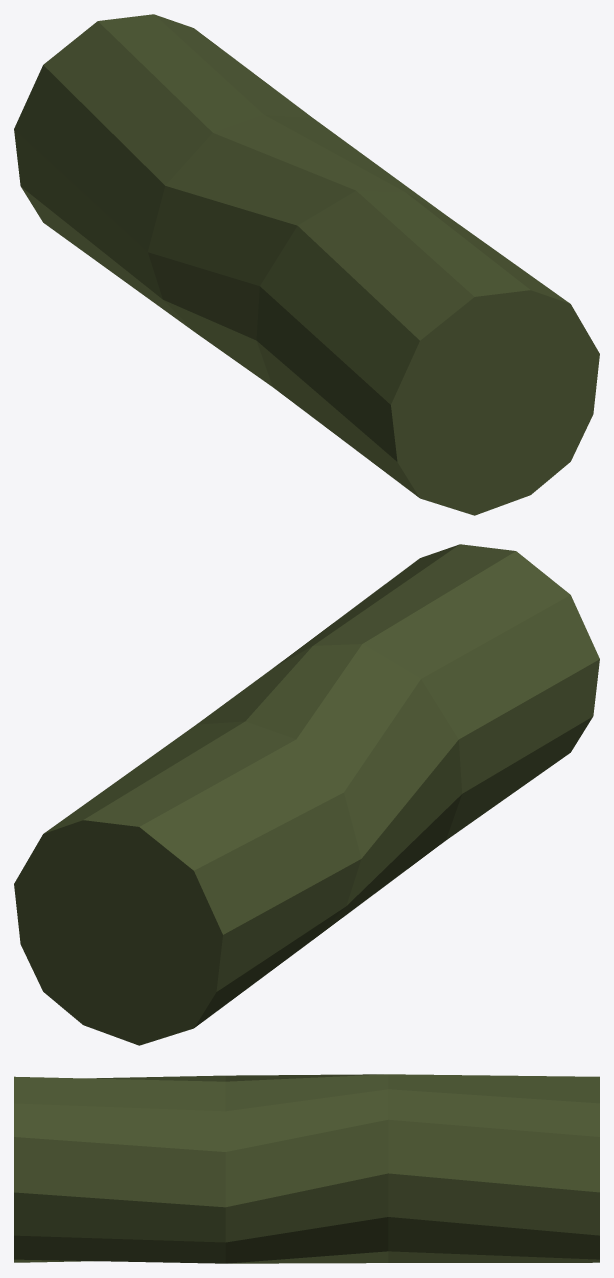
File: liana.glb
3 renders of one model, top to bottom at view 1: azimuth 30°, elevation 25°; view 2: azimuth 150°, elevation 25°; view 3: azimuth 270°, elevation 25°, orthographic. The views are drawn at different scales.
Visible parts, largest first — view 1: Cylindre; view 2: Cylindre; view 3: Cylindre.
Boxes of the visible parts, x1=… form: Cylindre: x1=14, y1=14, x2=599, y2=515; Cylindre: x1=14, y1=544, x2=599, y2=1045; Cylindre: x1=14, y1=1074, x2=599, y2=1263.
Size of the model in its own units: 2.08 by 2.09 by 6.37.
